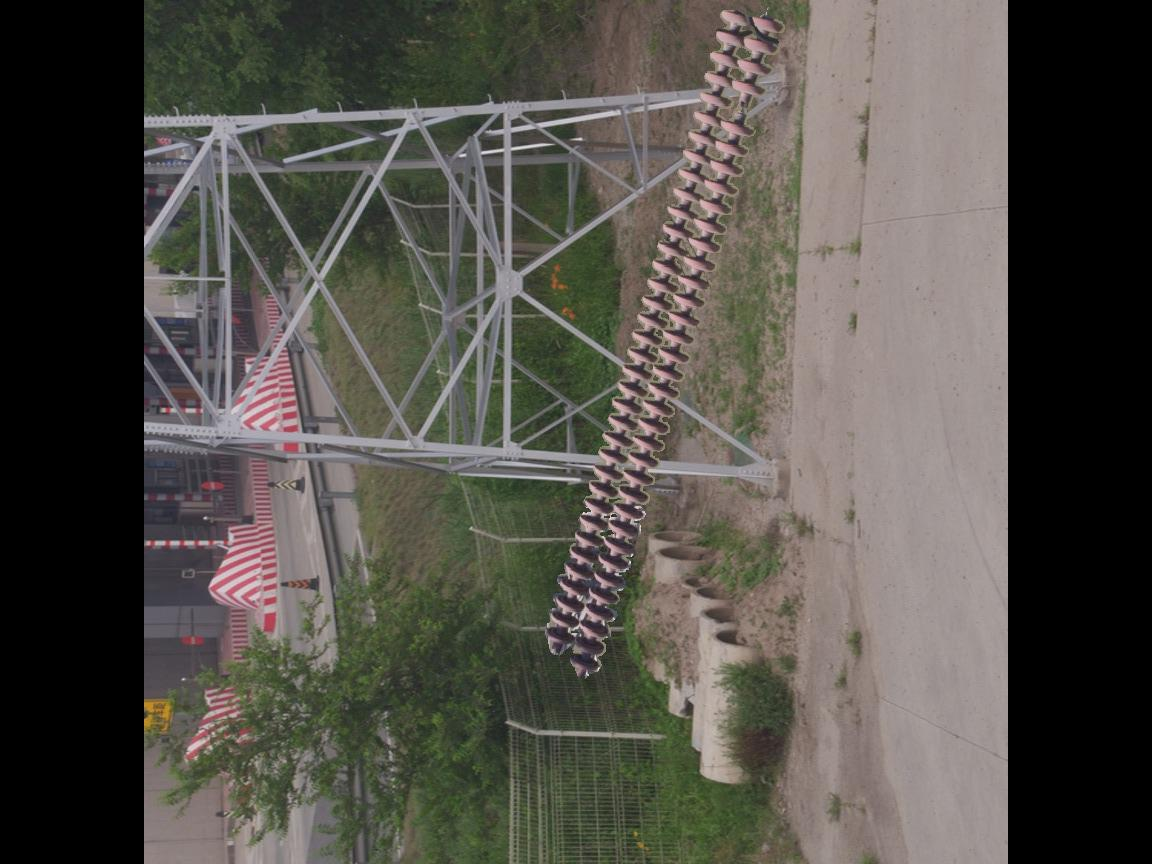insulator: (538, 4, 786, 682)
insulator_stringdrop: (717, 77, 767, 141)
